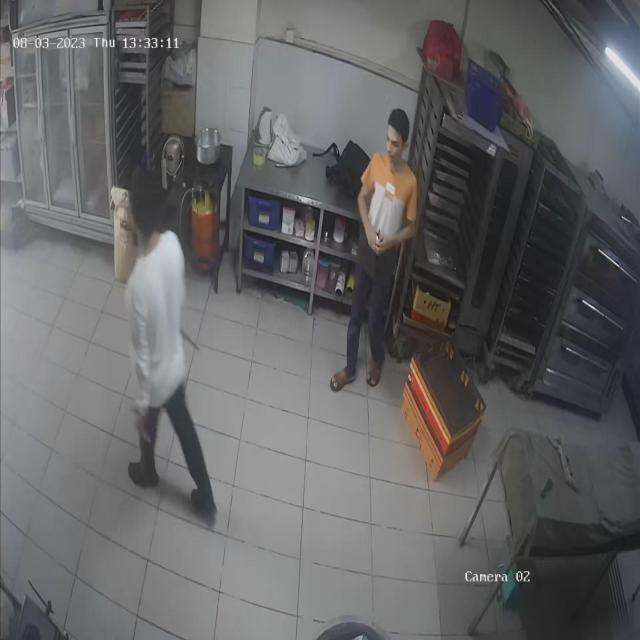Knife: (180, 321, 207, 357)
